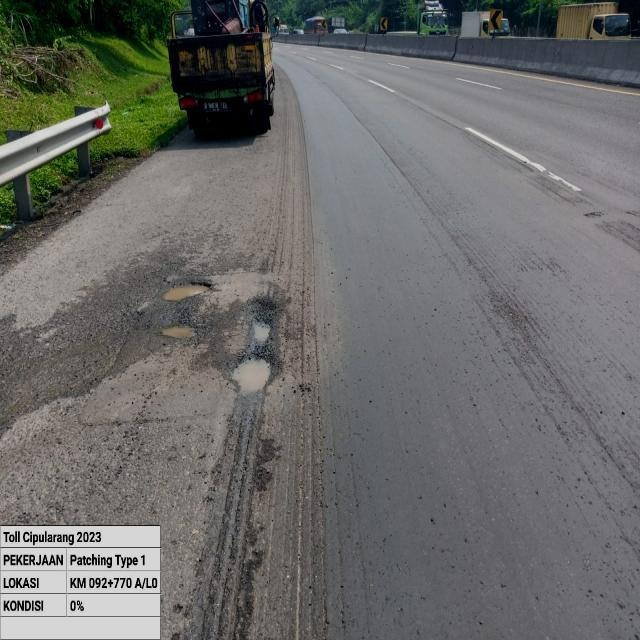Buraco: (220, 294, 286, 402), (158, 276, 218, 306), (152, 318, 202, 345)
